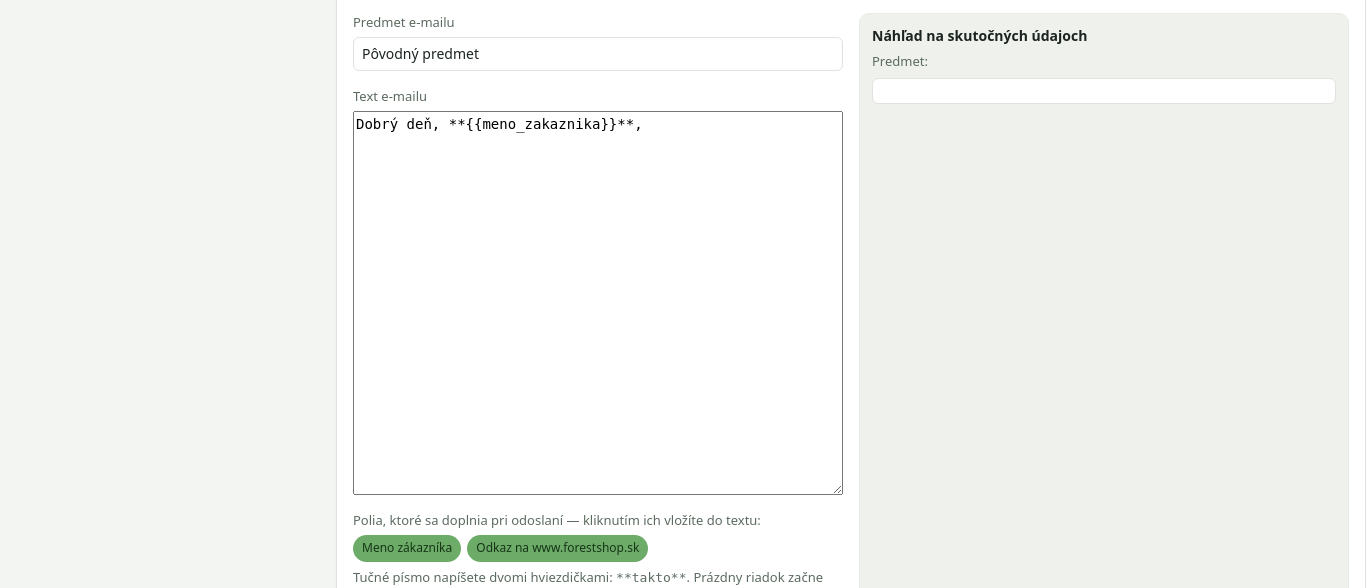
Test: zamietnuté uloženie zobrazí hlášku zo servera a znenie neoznačí za uložené
Replace the text in the field with test id "mail-template-subject" with "Iný predmet" at (598, 54), box x1=353 y1=37 x2=843 y2=71
(page scrolled)
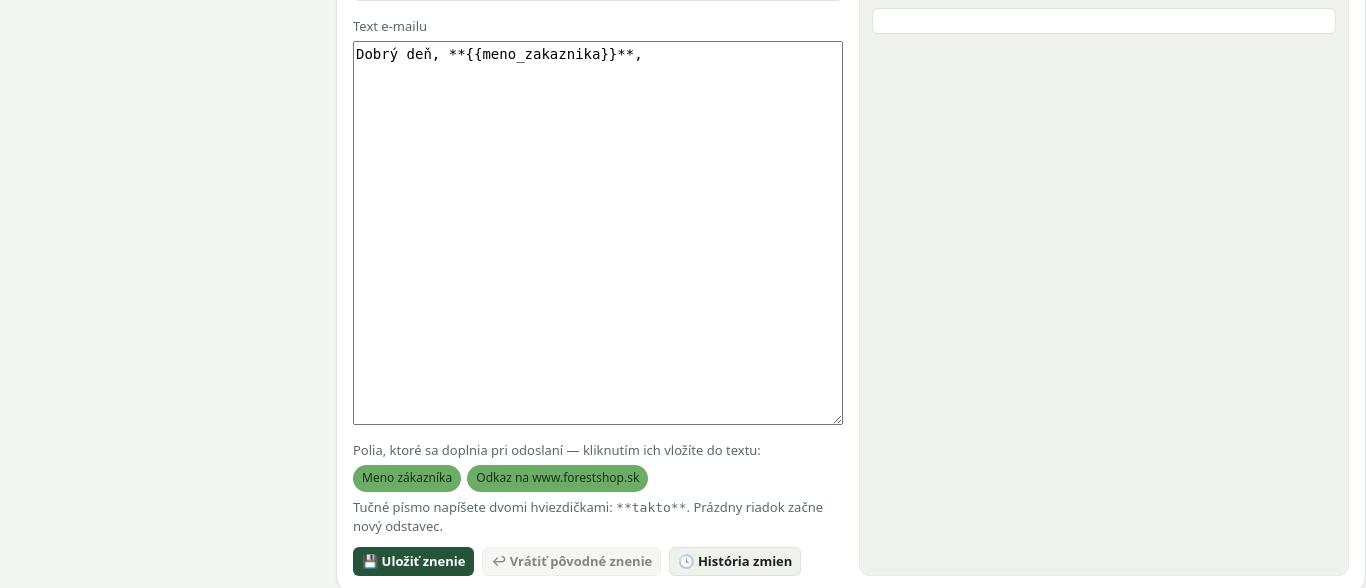
Click the button with test id "mail-template-save" at (414, 561), box x1=353 y1=547 x2=474 y2=576
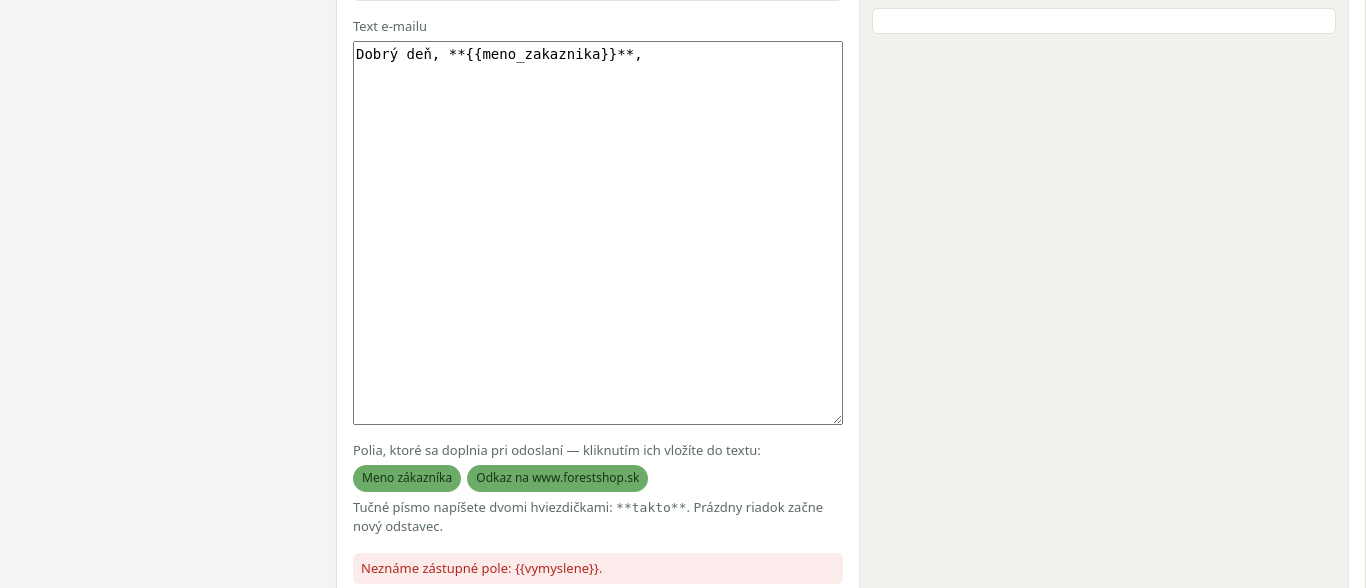
expect the text "Neznáme zástupné pole: {{vymyslene}}." is shown: met, box x1=353 y1=553 x2=843 y2=584
